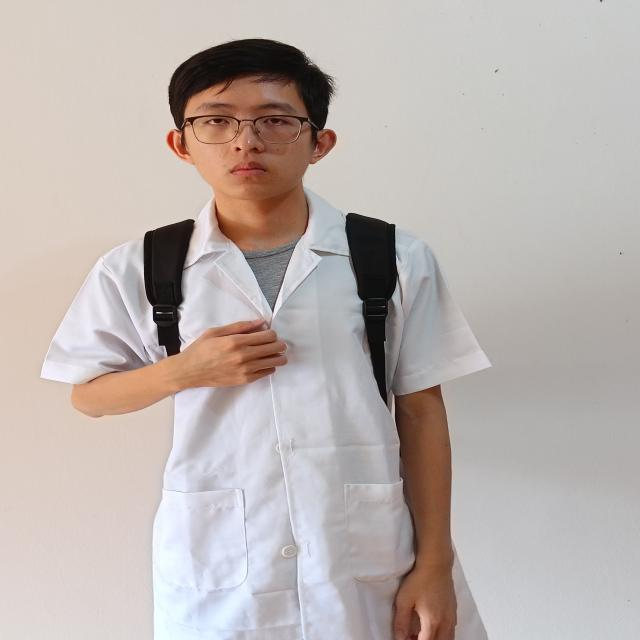person_with_labcoat: (41, 39, 490, 640)
